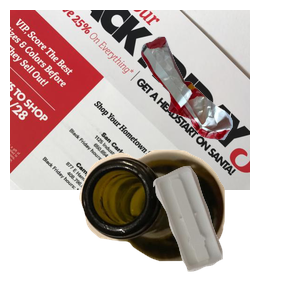glass: (77, 147, 295, 300)
paper: (10, 10, 250, 190)
plastic: (150, 163, 300, 300)
trash: (139, 34, 300, 167)
